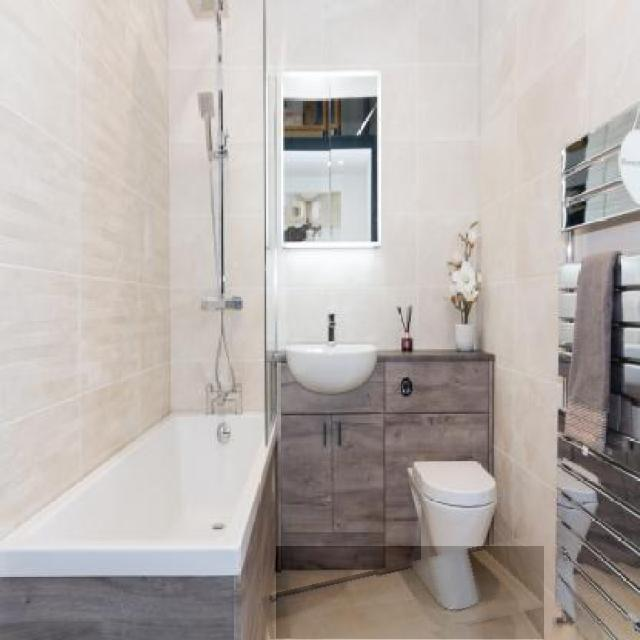floor: (277, 547, 544, 639)
